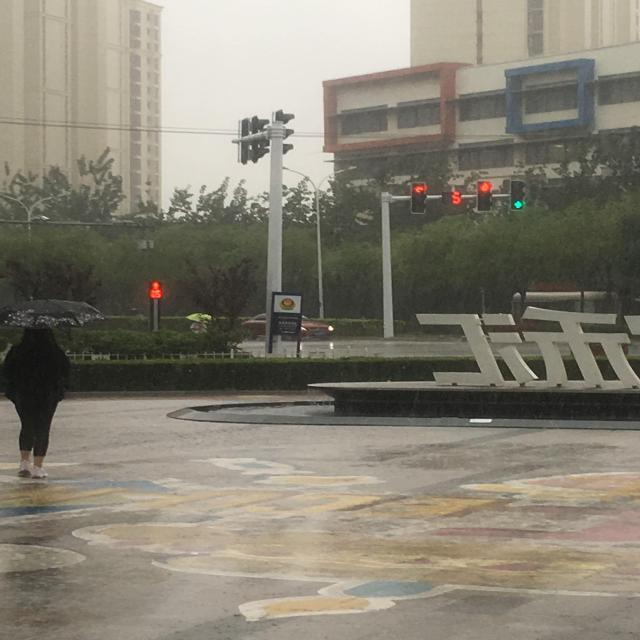car: (238, 312, 332, 340)
